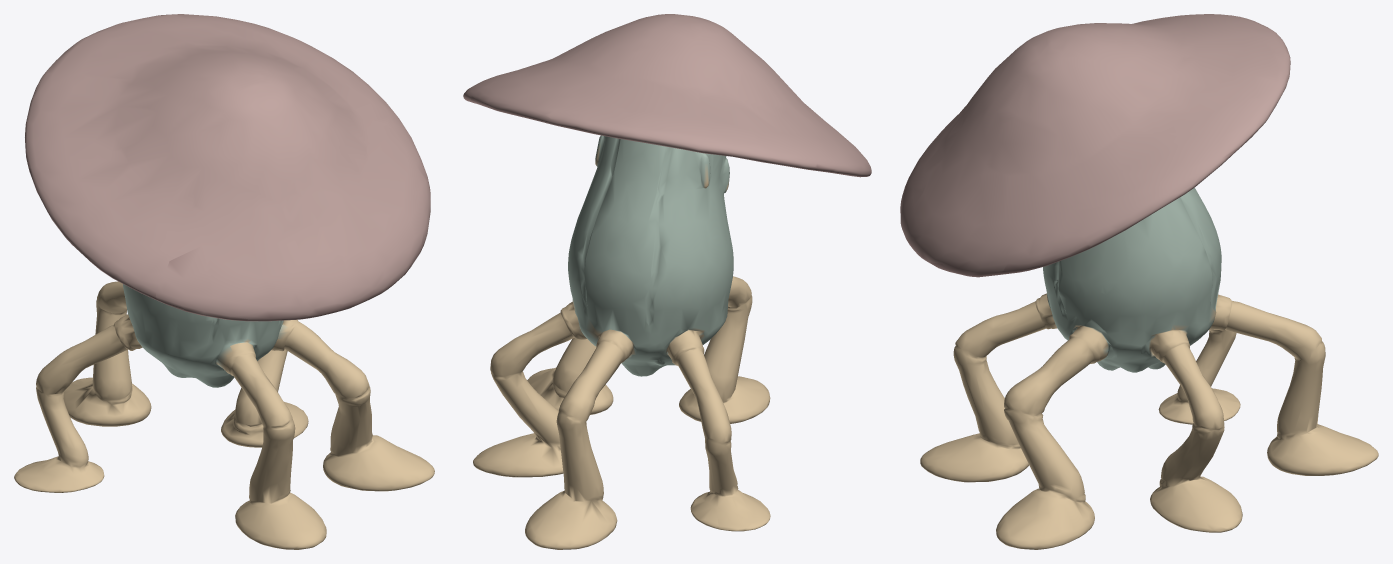
Rendered from body.glb.
3 renders of one model, left to right at view 1: azimuth 30°, elevation 25°; view 2: azimuth 150°, elevation 25°; view 3: azimuth 270°, elevation 25°, orthographic. The views are drawn at different scales.
Visible parts, largest first — view 1: rootknot; view 2: rootknot; view 3: rootknot.
Boxes of the visible parts, box(x1,y1,x2,y2) form: rootknot: box(14, 14, 434, 549); rootknot: box(463, 14, 871, 549); rootknot: box(900, 14, 1378, 549).
Size of the model in its own units: 2.87 by 3.2 by 3.21.
